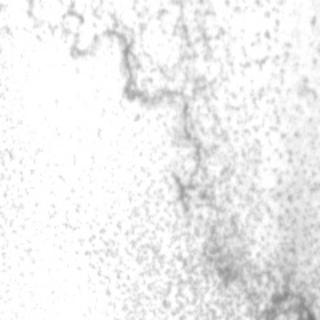pitted_surface: (87, 136, 317, 318), (36, 0, 286, 150)
